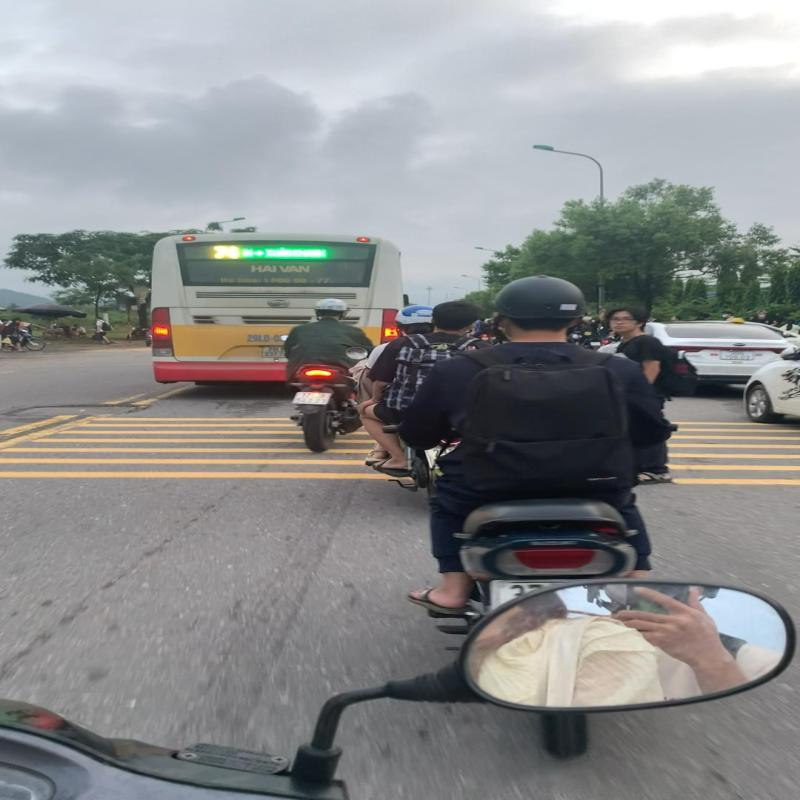helmet: (492, 273, 589, 335)
nohelmet: (431, 300, 482, 334)
